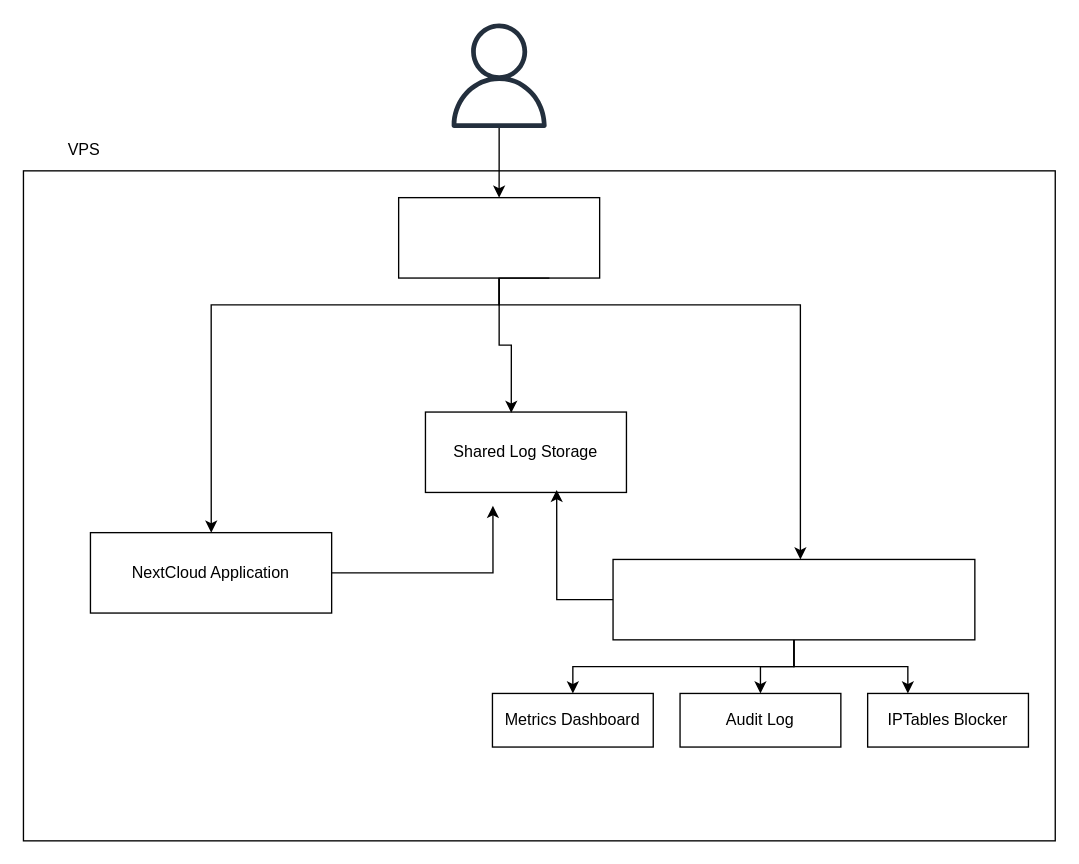
Image size: 1079x864. Some labels were removed from this diagram. The box of each missing label's shape, as (x1, y1, x2, y2) in pixels:
Detector Daemon: (612, 558, 975, 640)
Nginx Reverse proxy: (397, 196, 600, 278)
